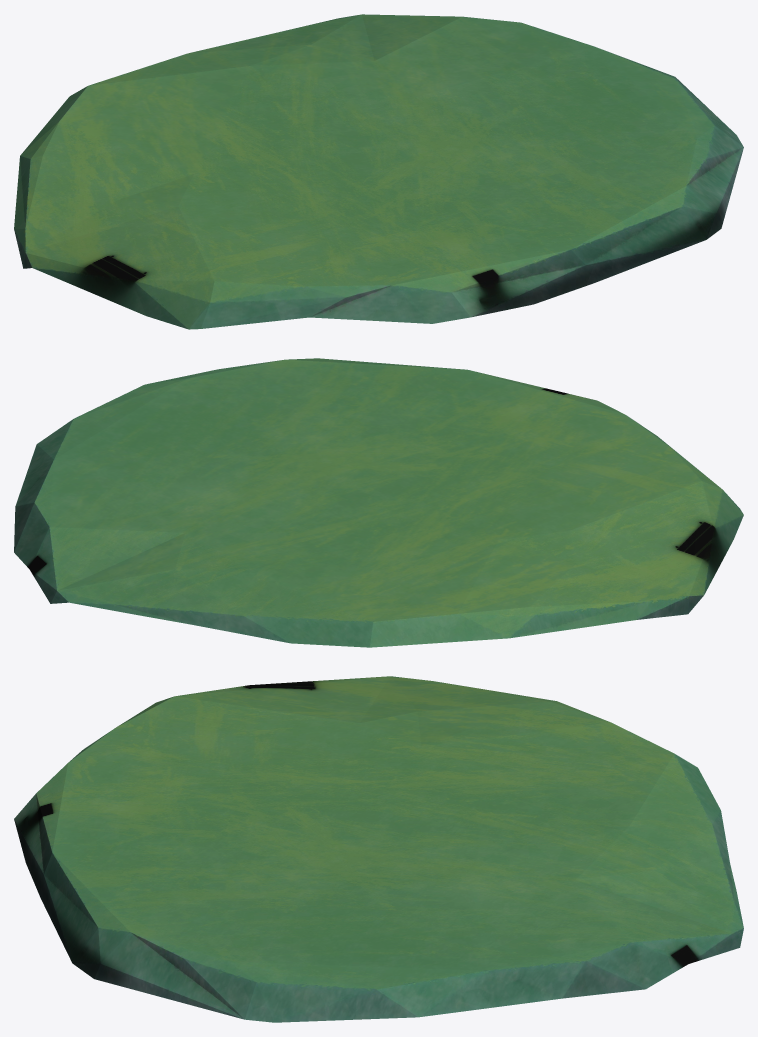
The model's file is second_mesh.glb.
The picture shows the model from 3 angles, top to bottom: view 1: azimuth 30°, elevation 25°; view 2: azimuth 150°, elevation 25°; view 3: azimuth 270°, elevation 25°; orthographic projection. The views are drawn at different scales.
Visible parts, largest first — view 1: defaultMaterial.008; view 2: defaultMaterial.008; view 3: defaultMaterial.008.
Part boxes in pixels (<box>): defaultMaterial.008: <box>14,14,743,329</box>; defaultMaterial.008: <box>14,358,743,647</box>; defaultMaterial.008: <box>14,676,743,1022</box>.
Bounding box in the file's own units: 89.37 × 5.4 × 79.03.
Materials: 1 (1 with a texture image).
